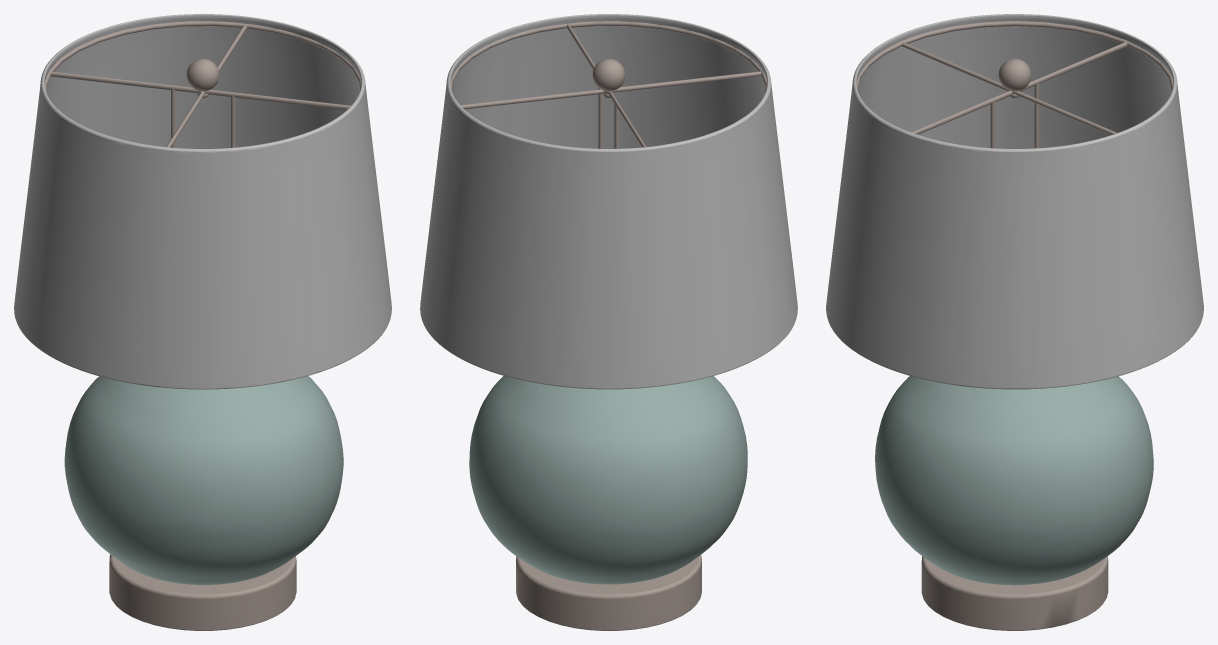
The model's file is B073751DML.glb.
The picture shows the model from 3 angles, left to right: view 1: azimuth 30°, elevation 25°; view 2: azimuth 150°, elevation 25°; view 3: azimuth 270°, elevation 25°; orthographic projection.
Parts seen in each view (by area): view 1: RootNode; view 2: RootNode; view 3: RootNode.
Boxes of the visible parts, box(x1,y1,x2,y2) form: RootNode: box(14, 14, 391, 630); RootNode: box(420, 14, 797, 630); RootNode: box(826, 14, 1203, 630).
Size of the model in its own units: 0.3399 by 0.5282 by 0.3399.
1 material, 1 textured.
